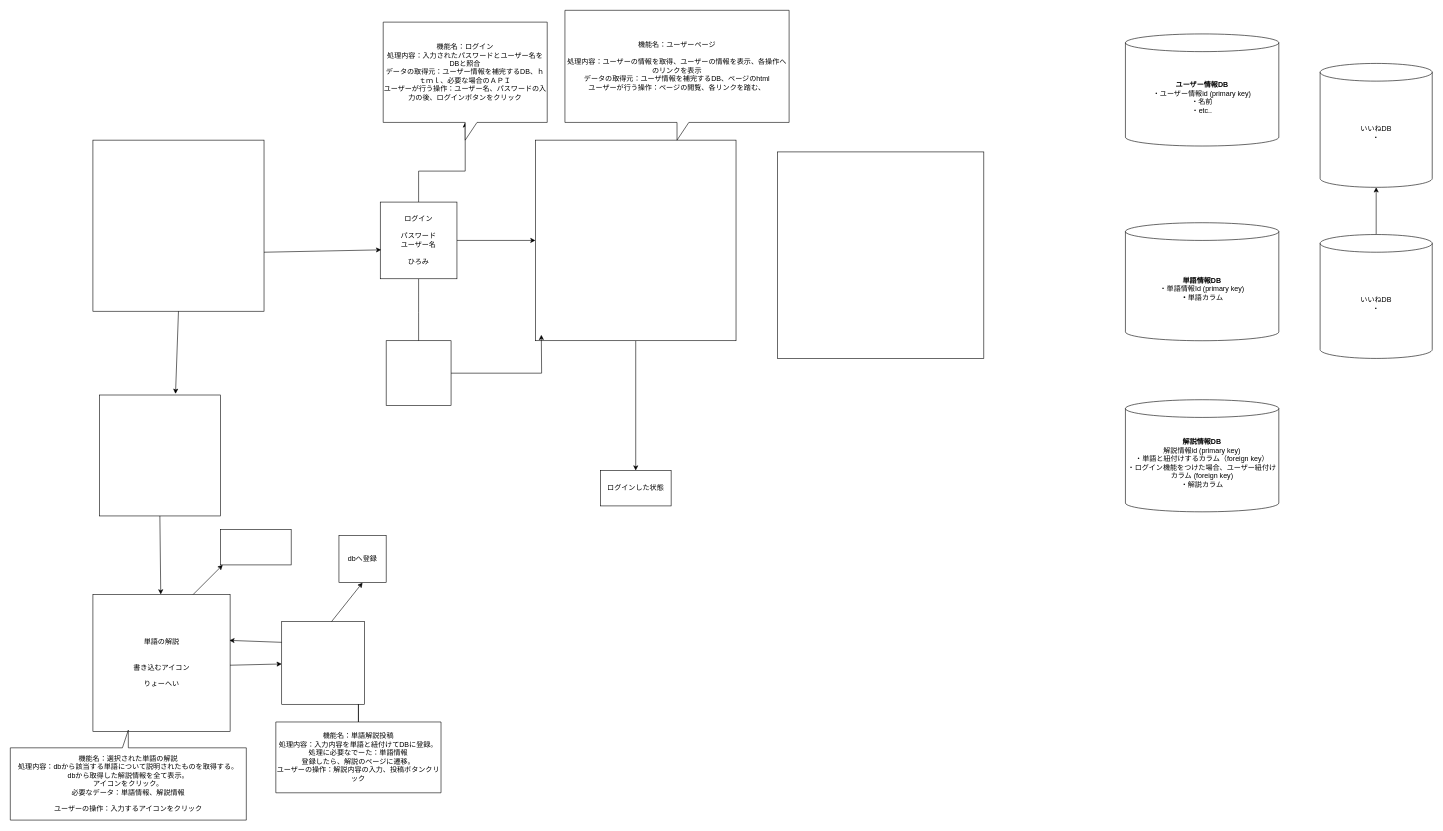
Some shapes in this 1443 by 831 pixel diagram are drawn without their labels. Here are the shapes that lost their labels. From the top down, the centre of each, then its label:
pixel 178 225: ホーム画面 検索窓 単語がずらり ひらまつ
pixel 635 240: ユーザーページ ユーザー名 過去の投稿一覧 ログアウト s
pixel 880 254: 機能名 処理内容 処理に必要なデータ データの取得元 ユーザーが行い操作
pixel 418 373: 登録画面 名前 パスワード e-mail twitter,google API
pixel 159 455: 単語 解説 解説 解説 ひらまつ
pixel 255 547: dbへ検索
pixel 322 662: 解説 投稿 りょーへい
